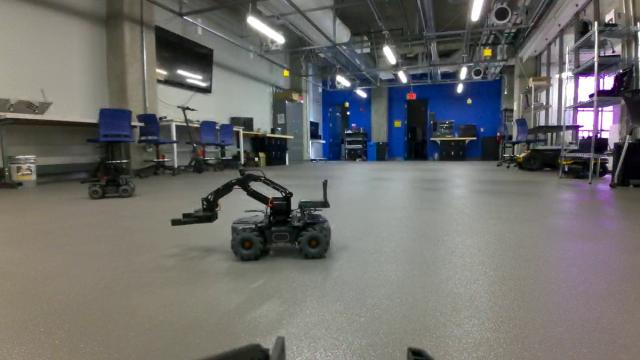robot: (164, 165, 332, 264)
